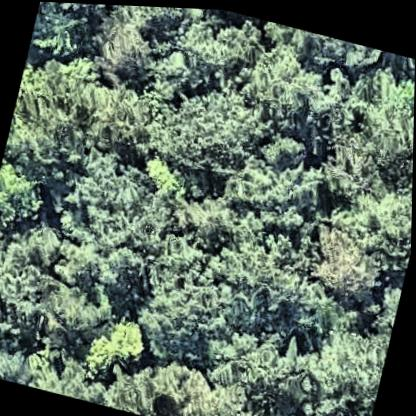tree-top: (41, 162, 187, 298), (5, 48, 148, 179), (134, 226, 250, 363), (0, 233, 112, 360), (315, 64, 415, 201), (161, 73, 271, 179), (102, 344, 261, 416), (197, 322, 307, 413), (300, 317, 391, 416), (304, 217, 390, 306), (238, 38, 322, 123), (82, 305, 157, 393), (89, 3, 167, 77), (345, 172, 413, 256), (24, 350, 112, 404), (0, 156, 52, 233), (139, 149, 192, 203), (262, 123, 314, 173)
